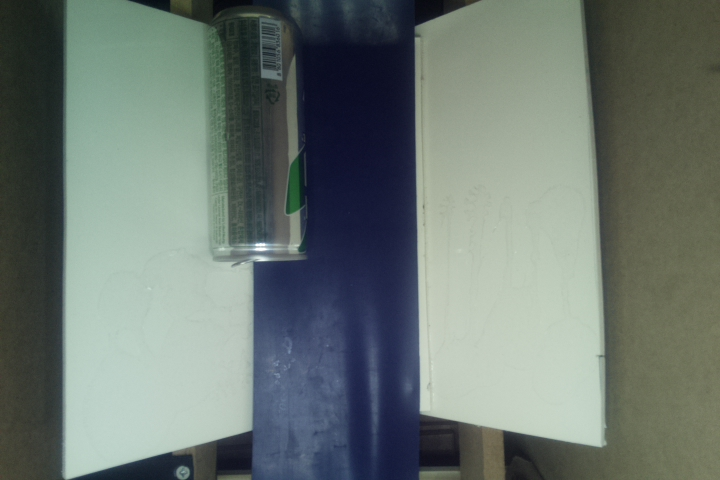can: (205, 3, 303, 268)
